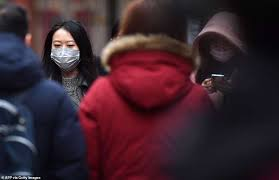mask: (40, 19, 89, 72), (200, 11, 244, 69)
